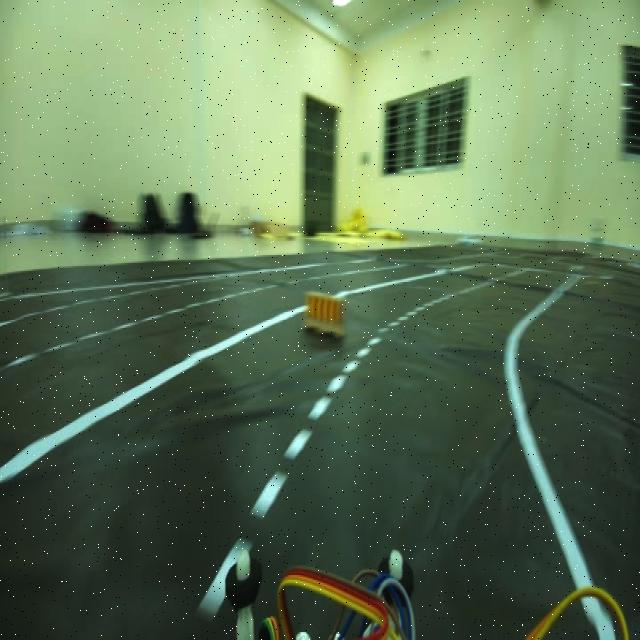roadblock: (298, 277, 352, 336)
